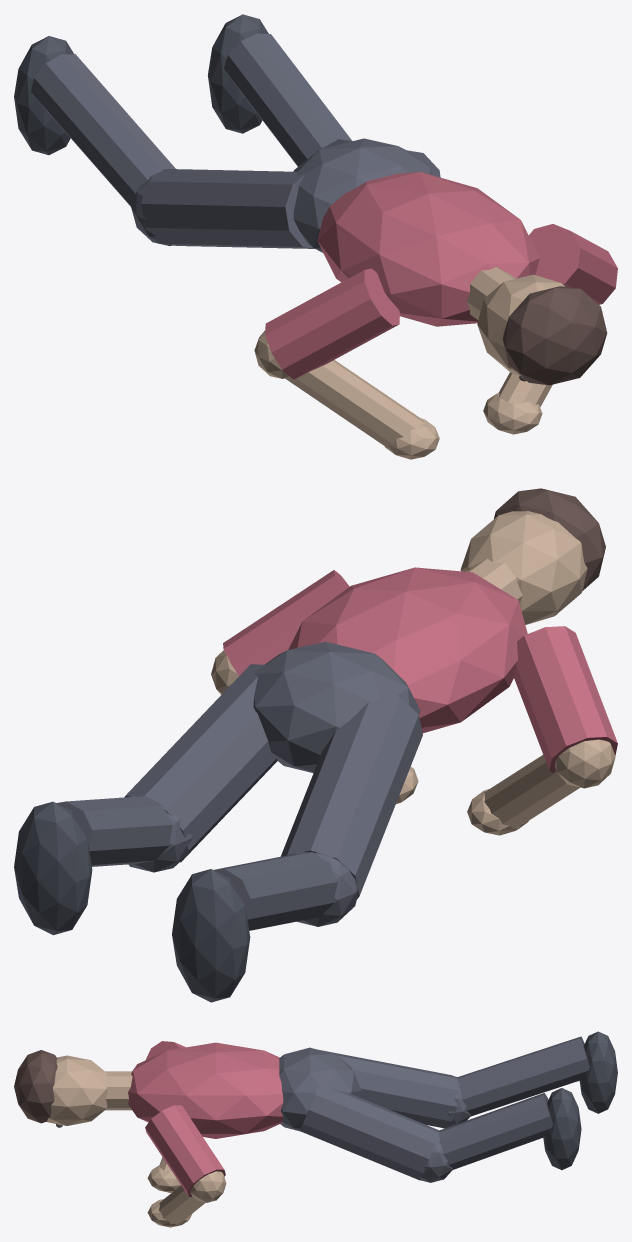
The picture shows the model from 3 angles, top to bottom: view 1: azimuth 30°, elevation 25°; view 2: azimuth 150°, elevation 25°; view 3: azimuth 270°, elevation 25°; orthographic projection. The views are drawn at different scales.
Parts seen in each view (by area): view 1: world; view 2: world; view 3: world.
Part boxes in pixels (left/top/right/bottom): world: left=14, top=14, right=617, bottom=459; world: left=14, top=488, right=617, bottom=1002; world: left=14, top=1031, right=617, bottom=1227.
Bounding box in the file's own units: 0.93 × 0.565 × 1.99.
